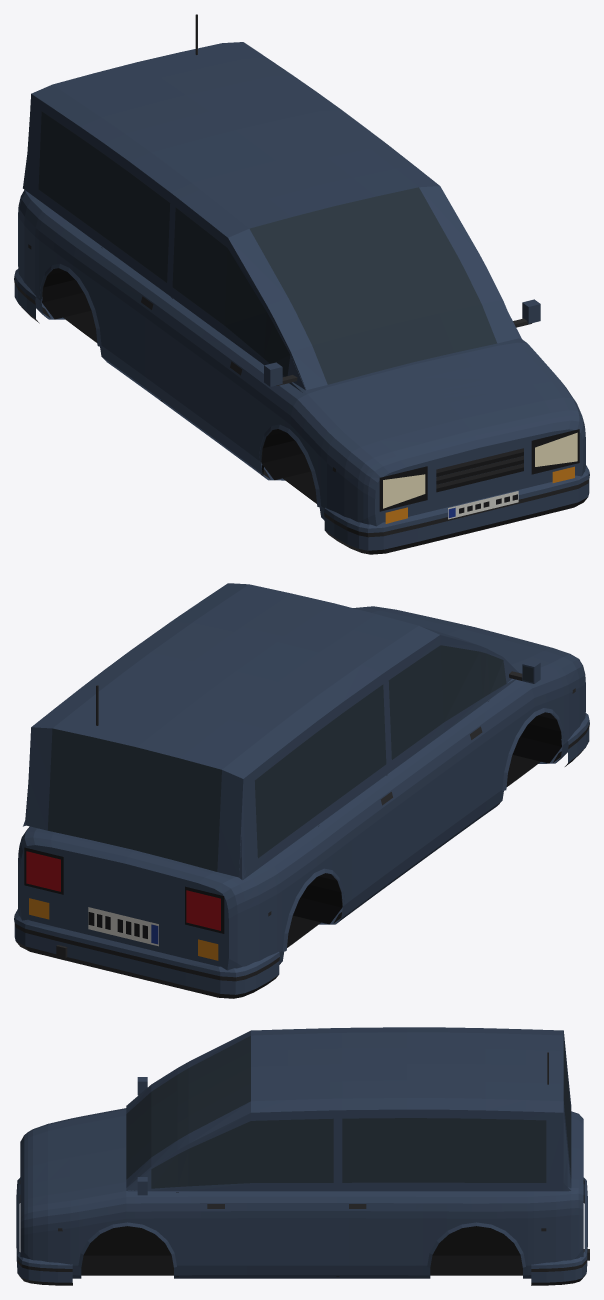
Rendered from alcor-nido.glb.
3 renders of one model, top to bottom at view 1: azimuth 30°, elevation 25°; view 2: azimuth 150°, elevation 25°; view 3: azimuth 270°, elevation 25°, orthographic. The views are drawn at different scales.
Visible parts, largest first — view 1: LOD0, door_FR, door_RR; view 2: LOD0, door_FR, door_RR; view 3: LOD0, door_FL, door_RL.
Boxes of the visible parts, x1,y1,x2,y2 form: LOD0: [14, 14, 589, 554]; door_FR: [159, 197, 274, 472]; door_RR: [88, 143, 170, 397]; LOD0: [14, 583, 589, 998]; door_FR: [388, 635, 501, 874]; door_RR: [316, 674, 399, 918]; LOD0: [16, 1027, 589, 1285]; door_FL: [177, 1110, 336, 1275]; door_RL: [339, 1109, 447, 1275].
Size of what is drawn, in the model's own units: 1.99 by 1.83 by 4.62.
